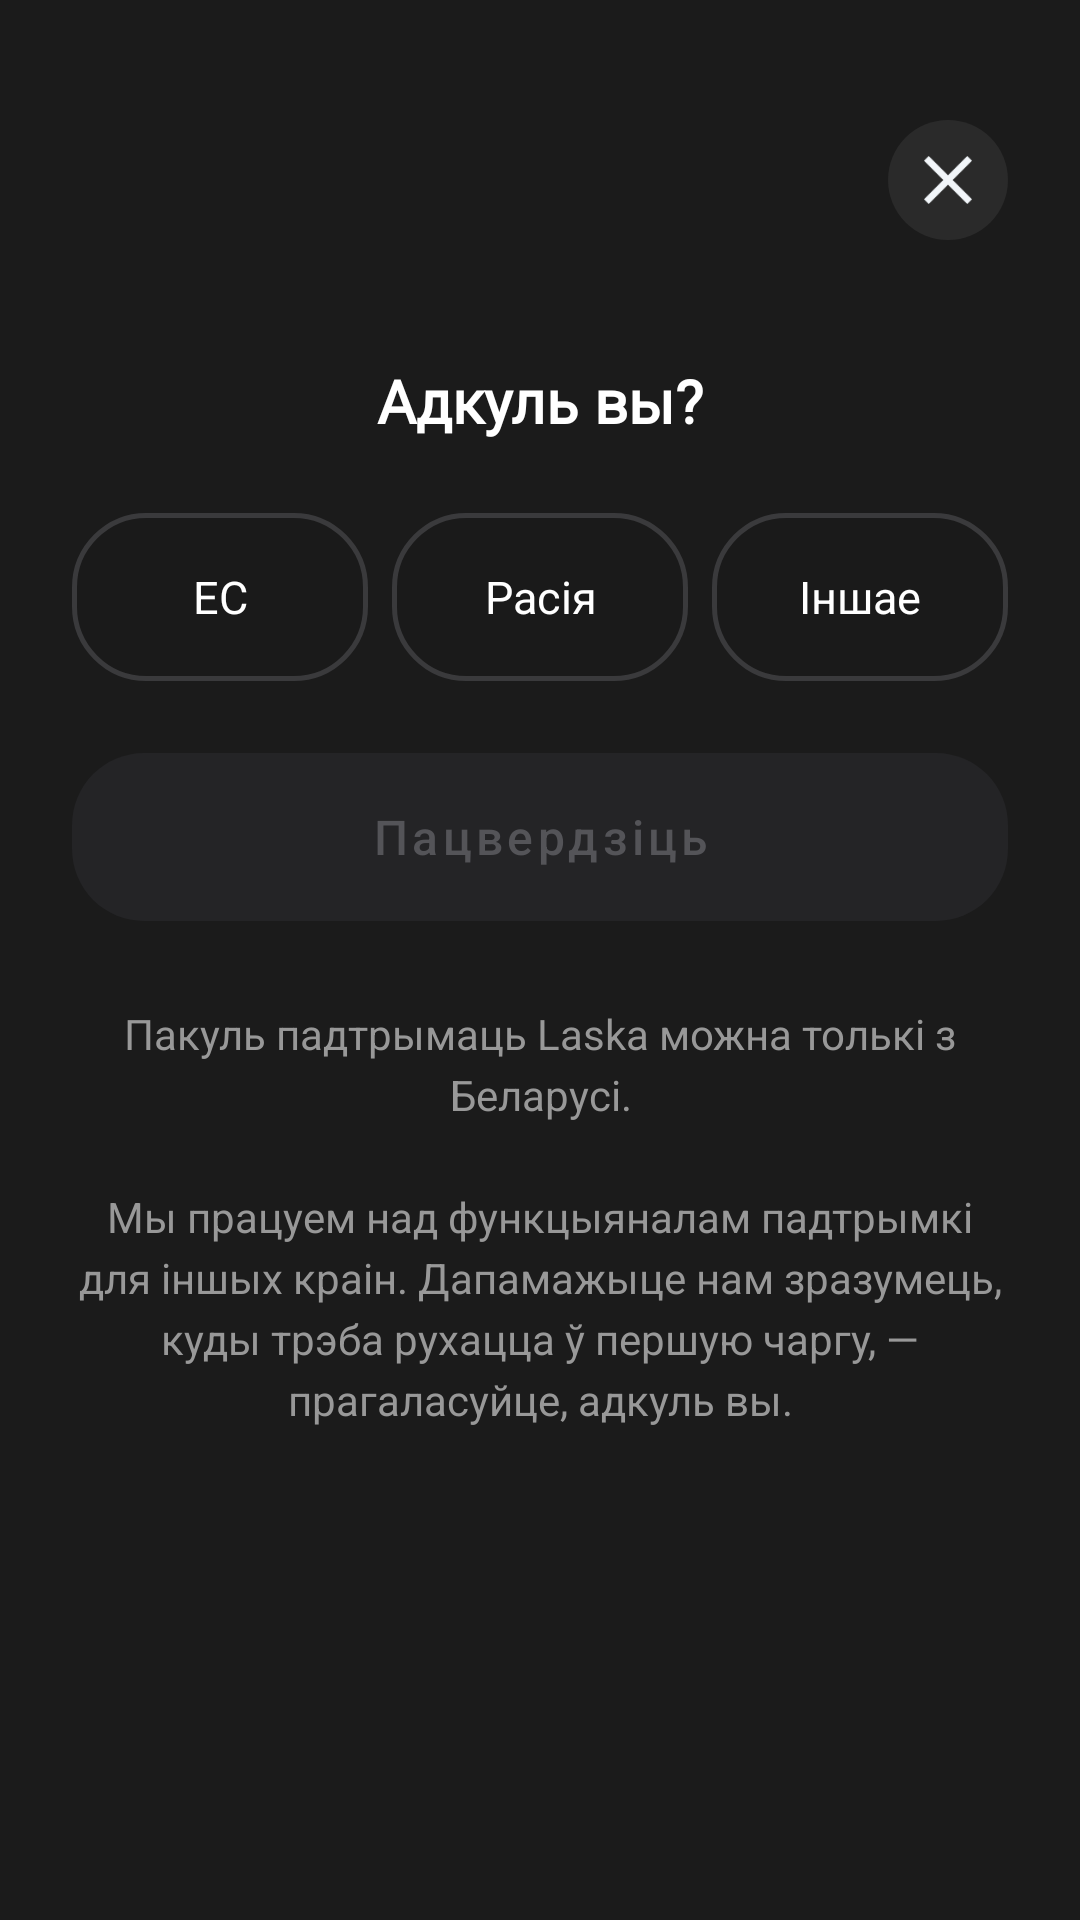

Where icons sit on this 1080px x 1920px app screen, as (x1, y1, x2, y2):
close: (888, 120, 1008, 240)
